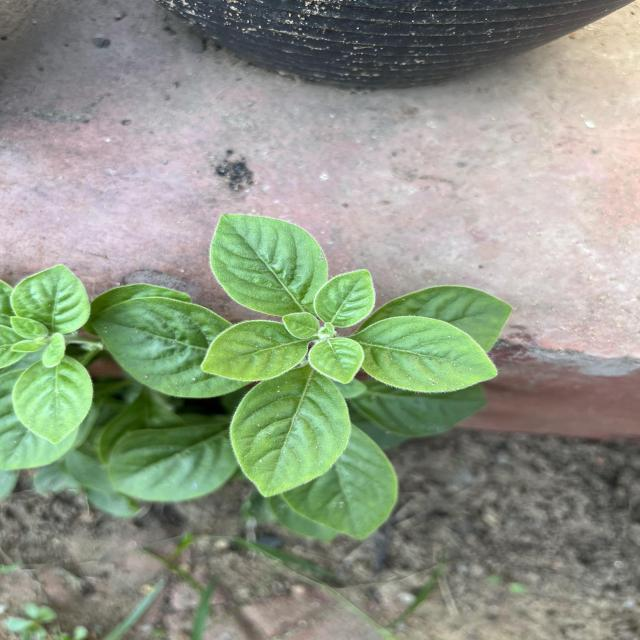Aerva lanata: (226, 366, 354, 500), (206, 210, 333, 318), (348, 313, 502, 396), (198, 316, 312, 384), (311, 266, 378, 330), (306, 334, 368, 386)
